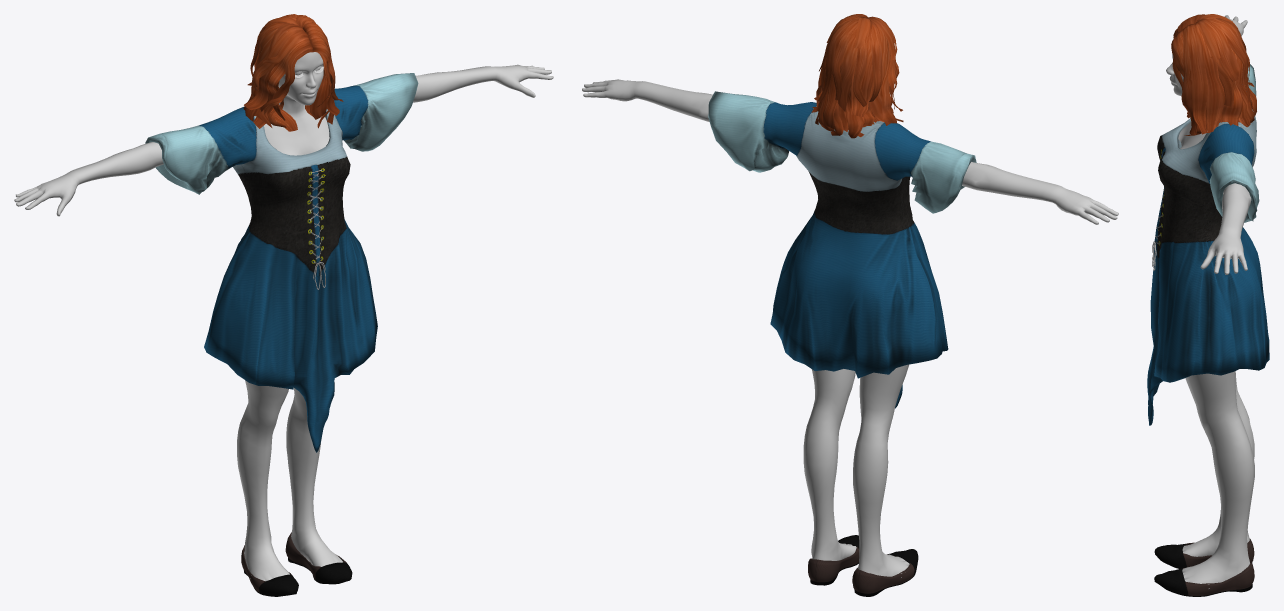
The model's file is FemaleNpc3.obj.
3 views of the same model, side by side, from view 1: azimuth 30°, elevation 25°; view 2: azimuth 150°, elevation 25°; view 3: azimuth 270°, elevation 25° (orthographic).
Parts seen in each view (by area): view 1: Tops, Body, Hair, Shoes; view 2: Tops, Body, Hair, Shoes; view 3: Tops, Body, Hair, Shoes.
Boxes of the visible parts, <box> form: Tops: <box>145,73,418,452</box>; Body: <box>14,52,553,581</box>; Hair: <box>243,14,343,131</box>; Shoes: <box>241,532,352,596</box>; Tops: <box>708,91,976,408</box>; Body: <box>582,79,1118,577</box>; Hair: <box>811,14,903,138</box>; Shoes: <box>808,535,918,596</box>; Tops: <box>1147,64,1269,425</box>; Body: <box>1166,15,1254,588</box>; Hair: <box>1171,14,1256,135</box>; Shoes: <box>1154,539,1254,596</box>.
Bounding box in the file's own units: 2.15 × 2.15 × 0.4264.
